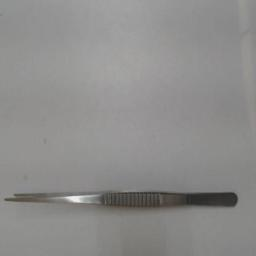DeBakey Dissector: (2, 179, 242, 225)
